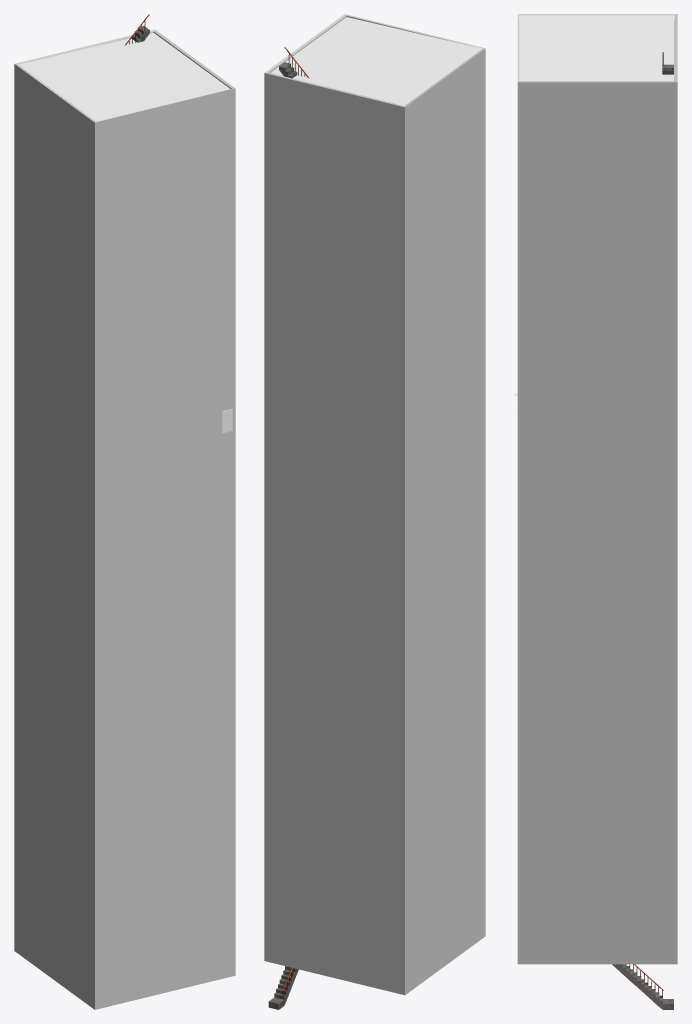
The model's file is the-backrooms-level-54-spiral-staircase.glb.
3 renders of one model, left to right at view 1: azimuth 30°, elevation 25°; view 2: azimuth 150°, elevation 25°; view 3: azimuth 270°, elevation 25°, orthographic.
Visible parts, largest first — view 1: Cube_2, object 2; view 2: Cube_2, object 2; view 3: Cube_2, object 2, Cube.001_18.
Boxes of the visible parts, x1=… form: Cube_2: x1=14, y1=29, x2=235, y2=1009; object 2: x1=18, y1=33, x2=230, y2=121; Cube_2: x1=264, y1=14, x2=485, y2=995; object 2: x1=270, y1=17, x2=482, y2=105; Cube_2: x1=517, y1=14, x2=677, y2=964; object 2: x1=518, y1=15, x2=674, y2=81; Cube.001_18: x1=612, y1=964, x2=662, y2=1009.
Size of the model in its own units: 13.48 by 87.76 by 13.64.
Materials: 45 (39 with a texture image).
